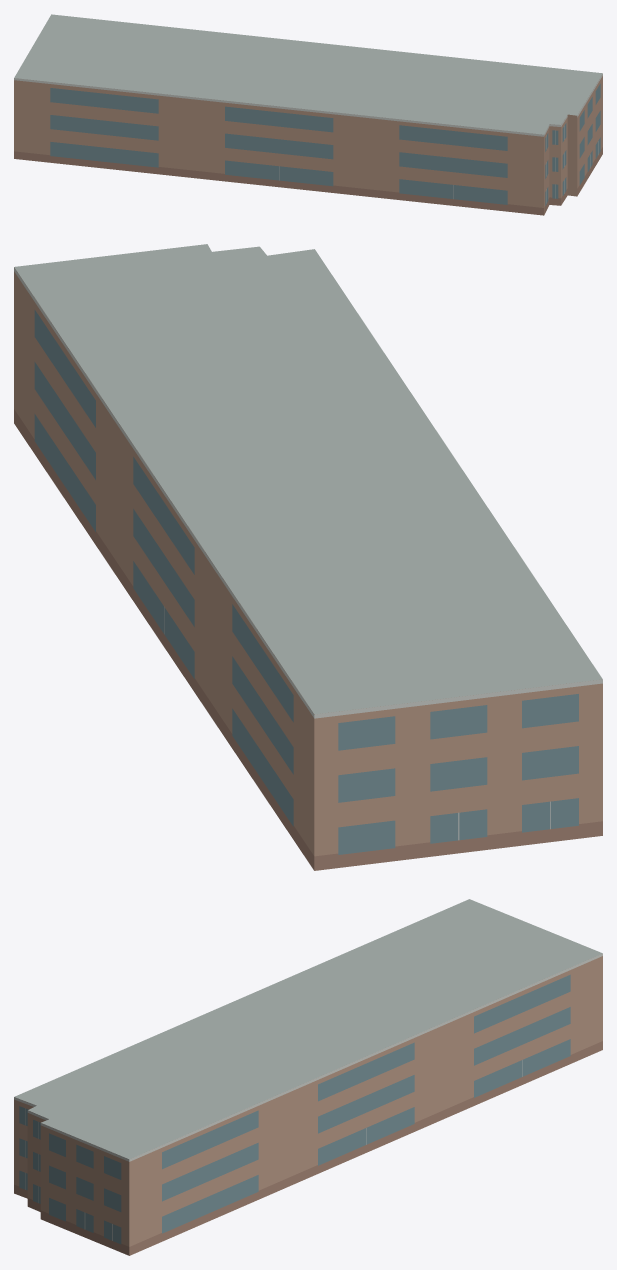
The model's file is survey-upis-32518726.glb.
3 views of the same model, one above another, from view 1: azimuth 30°, elevation 25°; view 2: azimuth 150°, elevation 25°; view 3: azimuth 270°, elevation 25° (orthographic). The views are drawn at different scales.
Parts seen in each view (by area): view 1: survey-upis-32518726.tmp; view 2: survey-upis-32518726.tmp; view 3: survey-upis-32518726.tmp.
Boxes of the visible parts, bbox=[...] form: survey-upis-32518726.tmp: bbox=[14, 14, 602, 215]; survey-upis-32518726.tmp: bbox=[14, 244, 602, 870]; survey-upis-32518726.tmp: bbox=[14, 899, 602, 1255].
Bounding box in the file's own units: 52.9 × 9.15 × 50.57.
